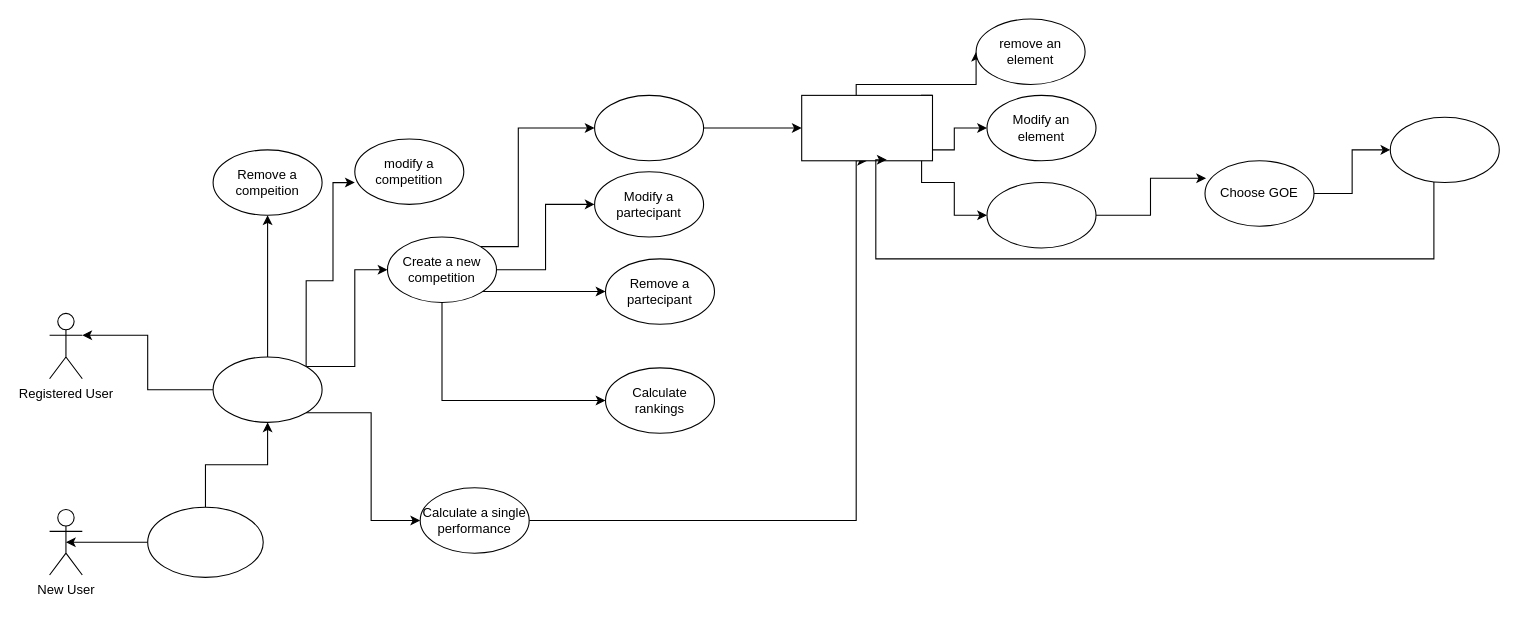
Image size: 1518x617. Some labels were removed from this diagram. The box of each missing label's shape, as (x1, y1, x2, y2) in pixels:
Add a mistake: (1389, 116, 1499, 183)
Add a new element: (986, 181, 1096, 248)
Add a new partecipant: (594, 94, 704, 161)
Client Login: (212, 356, 322, 422)
Client Registration: (147, 506, 263, 577)
Score calculator: (801, 94, 932, 161)
